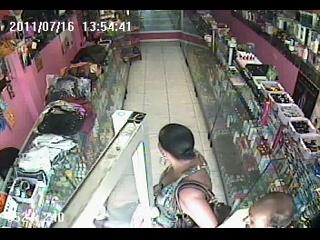Normal: (129, 123, 218, 228)
